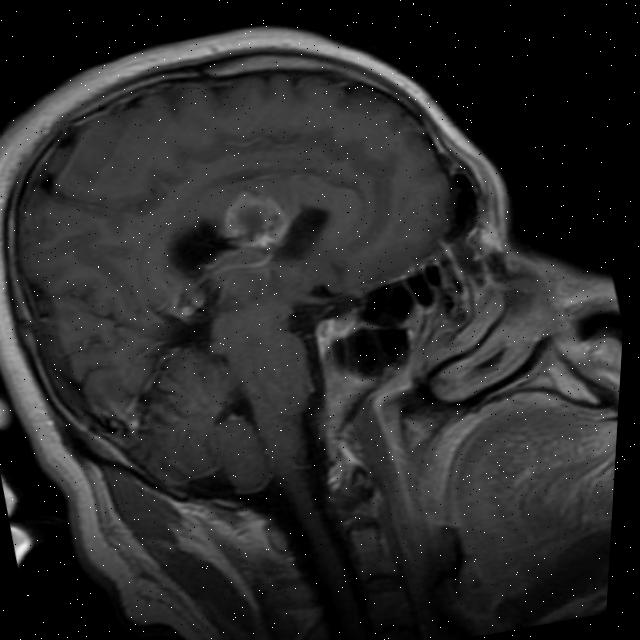Glioma: (213, 177, 296, 258)
Pituitary: (307, 301, 369, 353)
